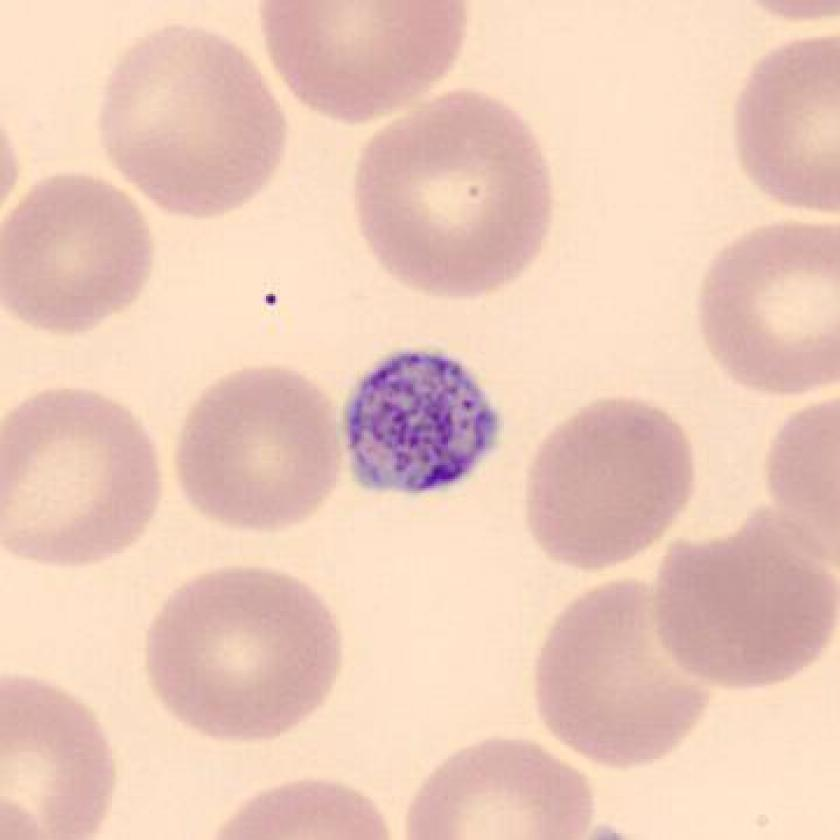platelets: (330, 341, 517, 510)
